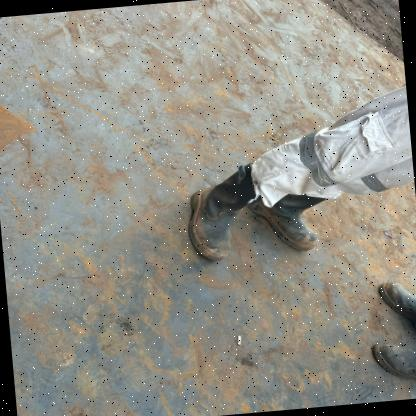bota: (180, 160, 266, 267), (254, 180, 322, 257), (366, 276, 416, 335), (371, 336, 416, 388)
